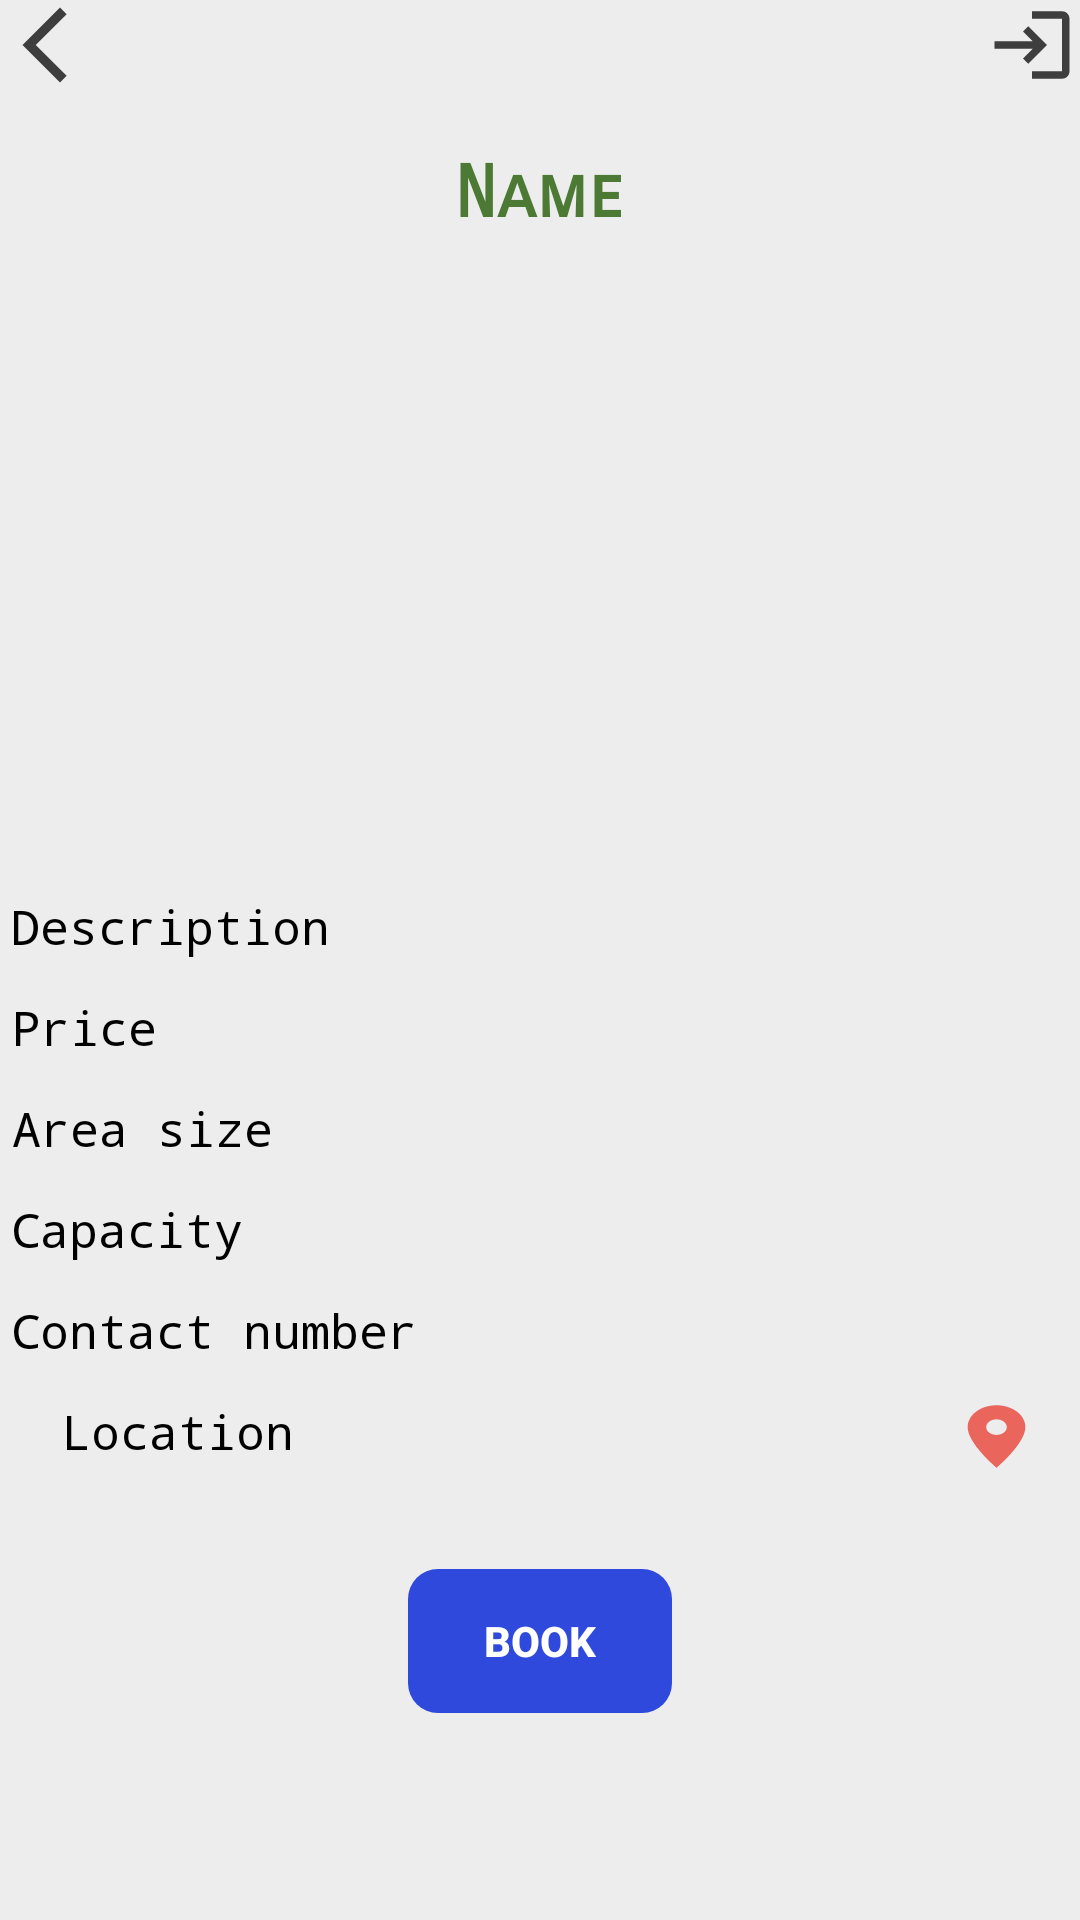

Named icons in this screenshot (1080w x 1920h) and their bounding boxes, box(x1, y1, x2, y2):
back: box(23, 8, 67, 82)
place: box(967, 1405, 1026, 1468)
